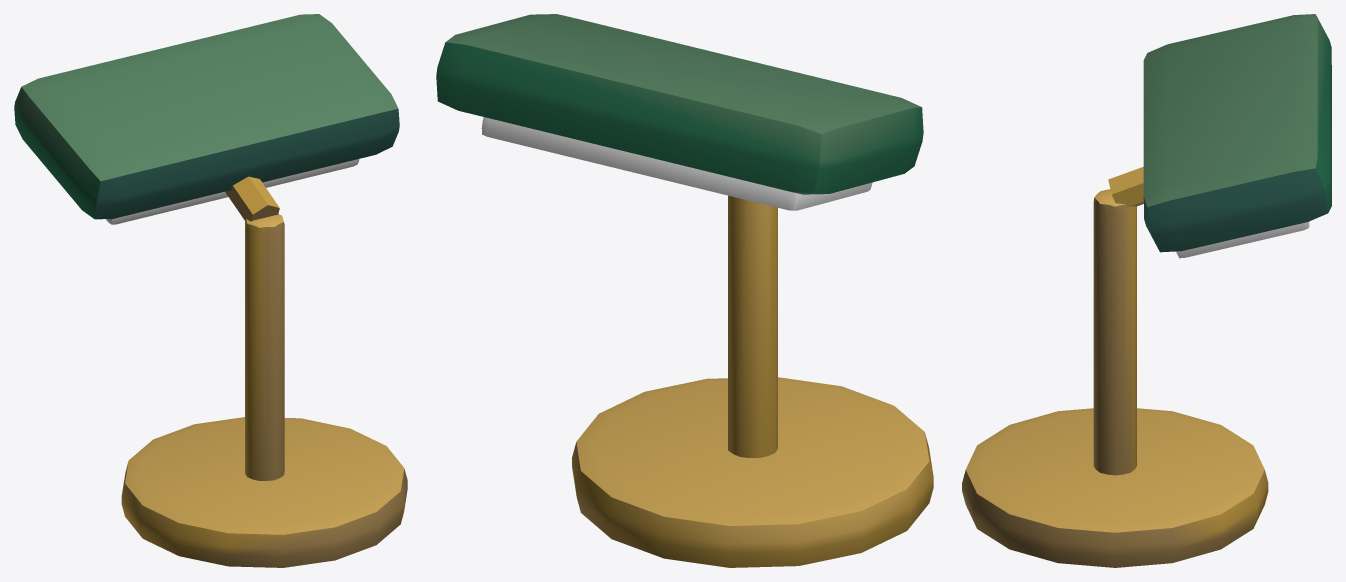
File: DeskLamp.fbx
3 views of the same model, side by side, from view 1: azimuth 30°, elevation 25°; view 2: azimuth 150°, elevation 25°; view 3: azimuth 270°, elevation 25° (orthographic). The views are drawn at different scales.
Visible parts, largest first — view 1: SM_Prop_DeskLamp, SM_Prop_DeskLamp_Glow; view 2: SM_Prop_DeskLamp, SM_Prop_DeskLamp_Glow; view 3: SM_Prop_DeskLamp, SM_Prop_DeskLamp_Glow.
Part boxes in pixels (left/top/right/bottom): SM_Prop_DeskLamp: left=14, top=14, right=407, bottom=567; SM_Prop_DeskLamp_Glow: left=106, top=159, right=359, bottom=224; SM_Prop_DeskLamp: left=436, top=14, right=933, bottom=567; SM_Prop_DeskLamp_Glow: left=481, top=117, right=872, bottom=210; SM_Prop_DeskLamp: left=962, top=14, right=1331, bottom=567; SM_Prop_DeskLamp_Glow: left=1176, top=221, right=1309, bottom=258.
Size of the model in its own units: 1 by 1.21 by 0.9656.
